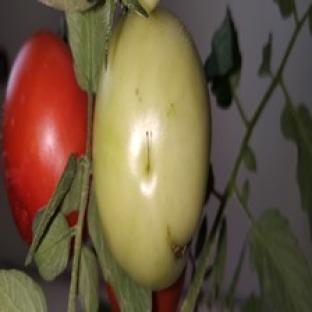Tomato: (94, 7, 210, 289), (3, 31, 87, 243), (152, 272, 185, 311)
